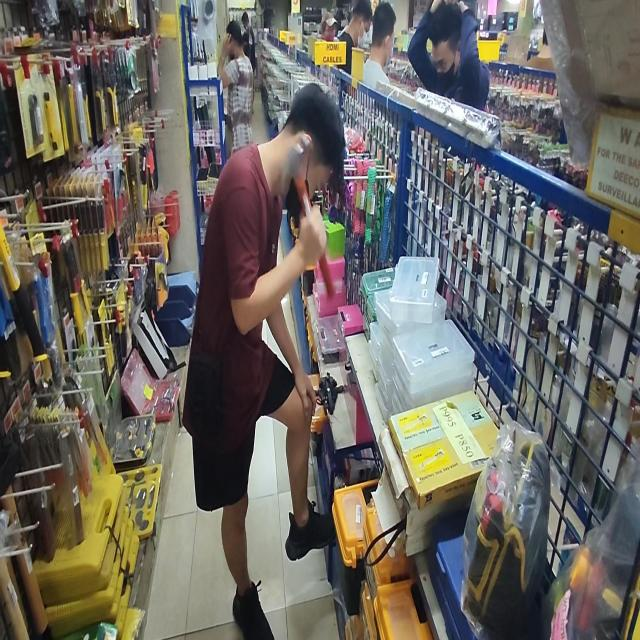hammer: (283, 134, 335, 299)
